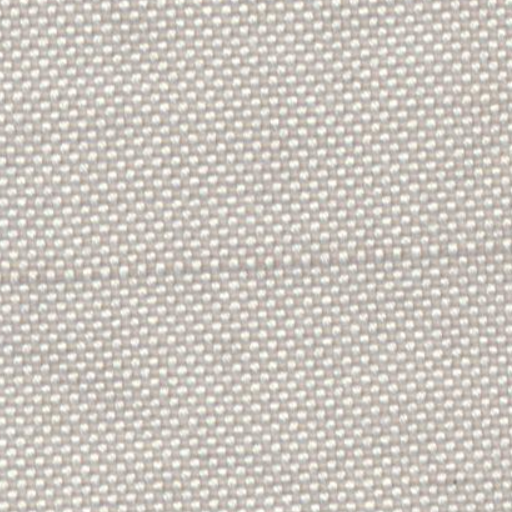TuoSha: (14, 226, 493, 304)
